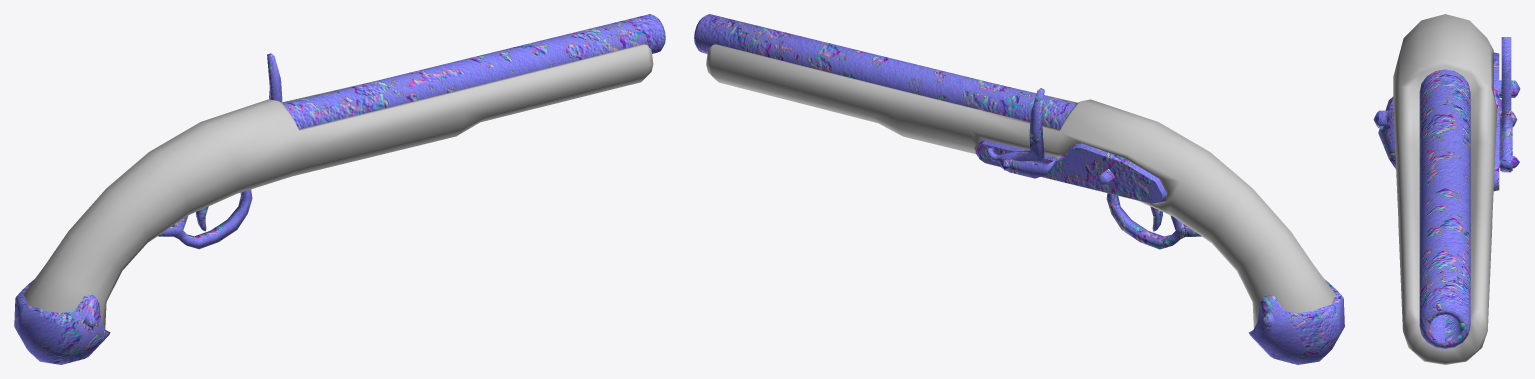
File: body.obj
3 views of the same model, side by side, from view 1: azimuth 30°, elevation 25°; view 2: azimuth 150°, elevation 25°; view 3: azimuth 270°, elevation 25° (orthographic). The views are drawn at different scales.
Parts seen in each view (by area): view 1: Cylinder.003; view 2: Cylinder.003; view 3: Cylinder.003.
Part boxes in pixels (x1,y1,x2,y2): Cylinder.003: (14,14,665,364); Cylinder.003: (694,14,1344,364); Cylinder.003: (1373,14,1520,364).
Size of the model in its own units: 9.6 by 3.33 by 1.49.
